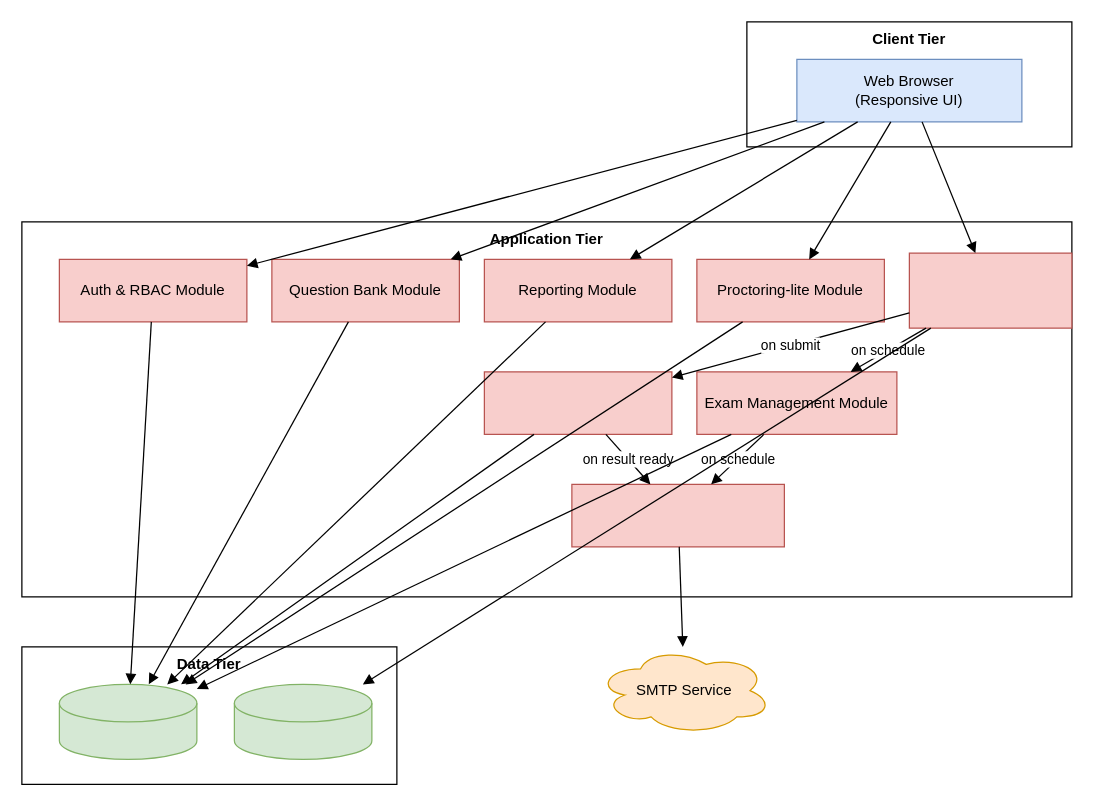
Image size: 1094x806. Some labels were removed from this diagram. The centre of each missing label's shape, as x and y in pixels:
"Evaluation Engine" belongs at point 577,402.
"Exam Engine (timer / autosave)" belongs at point 990,290.
"Notification Module (async jobs)" belongs at point 677,515.
"PostgreSQL (primary datastore)" belongs at point 127,721.
"Redis (session cache, optional)" belongs at point 302,721.
